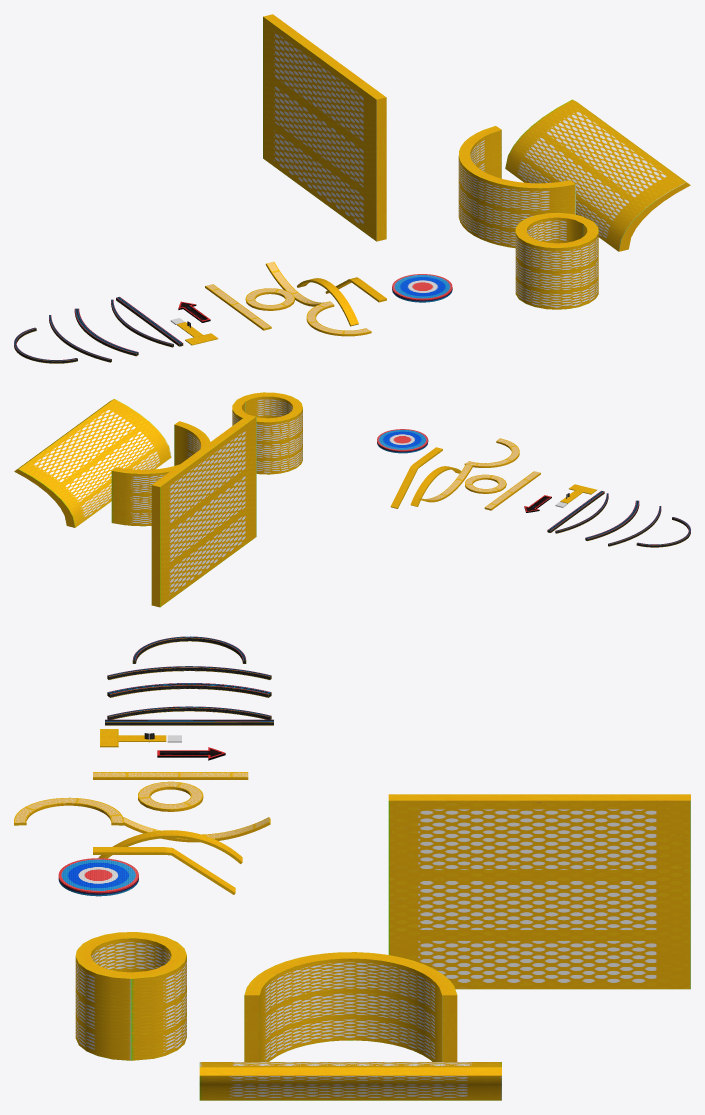
Rendered from models all.fbx.
The picture shows the model from 3 angles, top to bottom: view 1: azimuth 30°, elevation 25°; view 2: azimuth 150°, elevation 25°; view 3: azimuth 270°, elevation 25°; orthographic projection. The views are drawn at different scales.
Visible parts, largest first — view 1: Box016, Box019, Box018, Box017, Cylinder001, Box009, Box007, Box010, Box006, Box008; view 2: Box016, Box019, Box017, Box018, Cylinder001, Box011, Box007, Box009, Box006, Box010, Box008; view 3: Box016, Box018, Box017, Box019, Cylinder001, Box006, Box007, Box009, Box011, Box004, Box010, Box013 (+4 smaller).
Part boxes in pixels (x1,y1,x2,y2): Box016: (263,14,386,241); Box019: (505,99,690,251); Box018: (458,126,575,248); Box017: (515,212,598,309); Cylinder001: (392,274,452,302); Box009: (306,301,371,336); Box007: (245,288,294,310); Box010: (297,278,358,326); Box006: (205,284,271,330); Box008: (265,261,324,306); Box016: (151,414,256,607); Box019: (14,399,171,527); Box017: (232,392,302,474); Box018: (111,421,210,526); Cylinder001: (377,429,428,453); Box011: (390,447,442,508); Box007: (465,474,506,493); Box009: (464,438,519,467); Box006: (484,471,540,510); Box010: (410,466,461,506); Box008: (419,464,472,502); Box016: (388,794,690,989); Box018: (244,952,457,1061); Box017: (75,932,186,1060); Box019: (199,1062,501,1100); Cylinder001: (58,858,138,896); Box006: (93,772,248,779); Box007: (138,781,203,811); Box009: (14,797,123,825); Box011: (93,847,235,894); Box004: (105,719,273,725); Box010: (98,830,242,863); Box013: (107,683,271,697).
Size of the model in its own units: 7430 by 1492 by 4851.
Materials: 9 (9 with a texture image).
